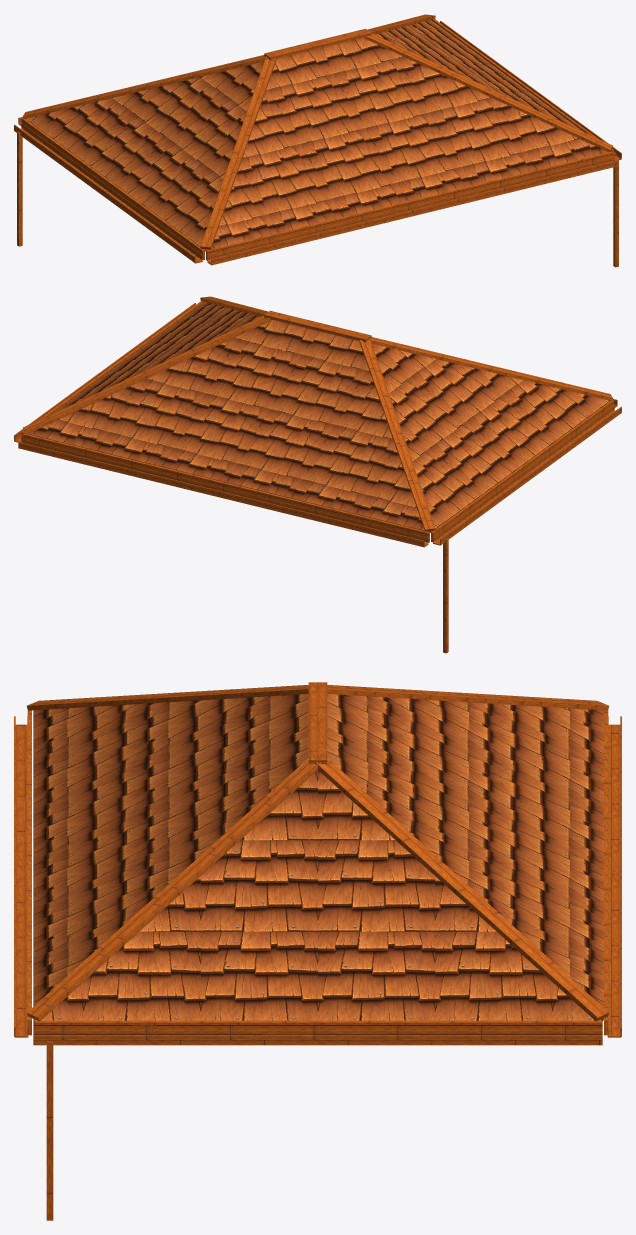
File: Roof_Hip_8x6.fbx
3 views of the same model, one above another, from view 1: azimuth 30°, elevation 25°; view 2: azimuth 150°, elevation 25°; view 3: azimuth 270°, elevation 25° (orthographic). The views are drawn at different scales.
Visible parts, largest first — view 1: Roof_Hip_8x6; view 2: Roof_Hip_8x6; view 3: Roof_Hip_8x6.
Part boxes in pixels (left/top/right/bottom): Roof_Hip_8x6: left=14, top=14, right=621, bottom=267; Roof_Hip_8x6: left=14, top=296, right=621, bottom=653; Roof_Hip_8x6: left=14, top=682, right=621, bottom=1220.
Bounding box in the file's own units: 9.32 × 4.41 × 7.26.
